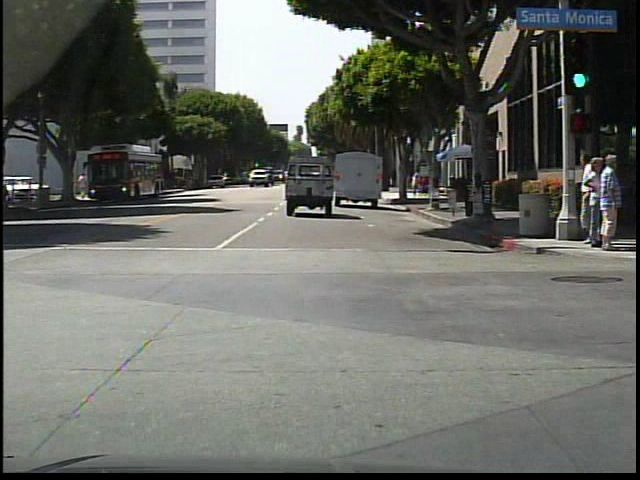person: (592, 153, 624, 257), (574, 150, 597, 249), (585, 157, 607, 249), (79, 171, 89, 201), (68, 176, 78, 201), (412, 171, 421, 197), (407, 169, 413, 197)
